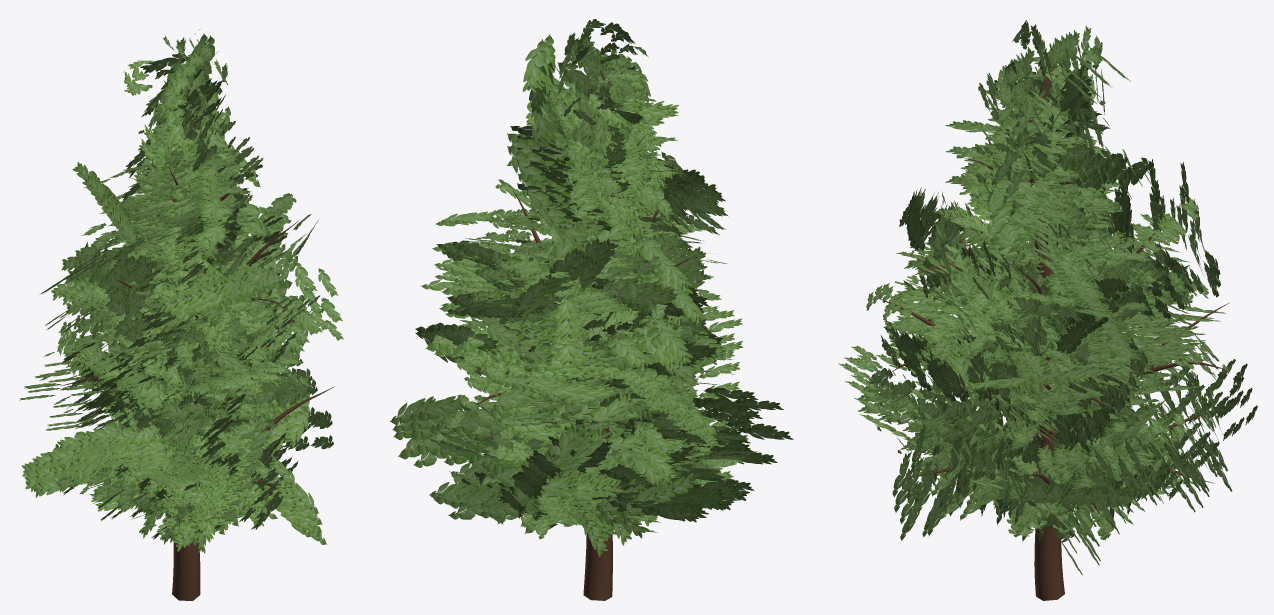
Rendered from Tree1.fbx.
3 renders of one model, left to right at view 1: azimuth 30°, elevation 25°; view 2: azimuth 150°, elevation 25°; view 3: azimuth 270°, elevation 25°, orthographic. The views are drawn at different scales.
Parts seen in each view (by area): view 1: Tree1; view 2: Tree1; view 3: Tree1.
Part boxes in pixels (x1=…): Tree1: x1=19, y1=29, x2=343, y2=600; Tree1: x1=390, y1=19, x2=793, y2=600; Tree1: x1=838, y1=20, x2=1257, y2=600.
Bounding box in the file's own units: 391 × 589 × 395.
